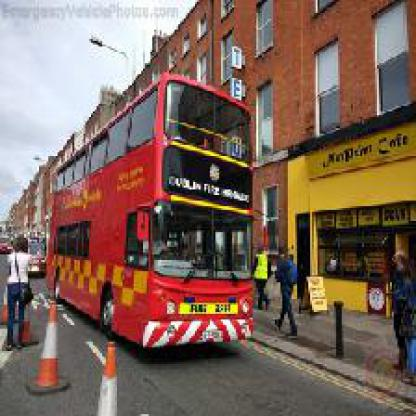emergency: (50, 145, 275, 342)
